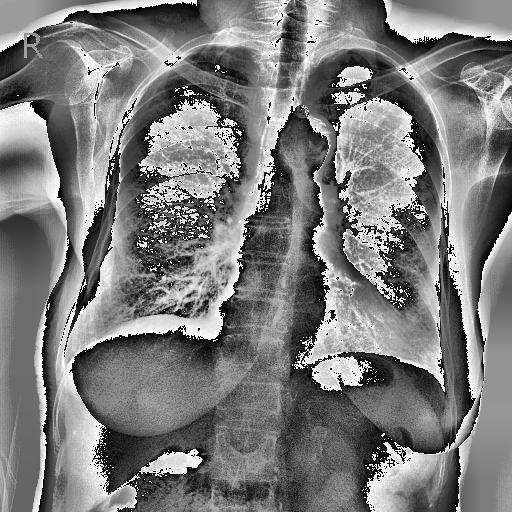0- Aortic enlargement: (282, 110, 340, 182), (285, 112, 339, 176), (274, 111, 338, 164)
10- Pleural effusion: (58, 358, 80, 374)
11- Pleural thickening: (58, 358, 80, 374)
3- Cardiomegaly: (209, 282, 413, 362), (202, 303, 410, 365), (209, 303, 410, 354)
